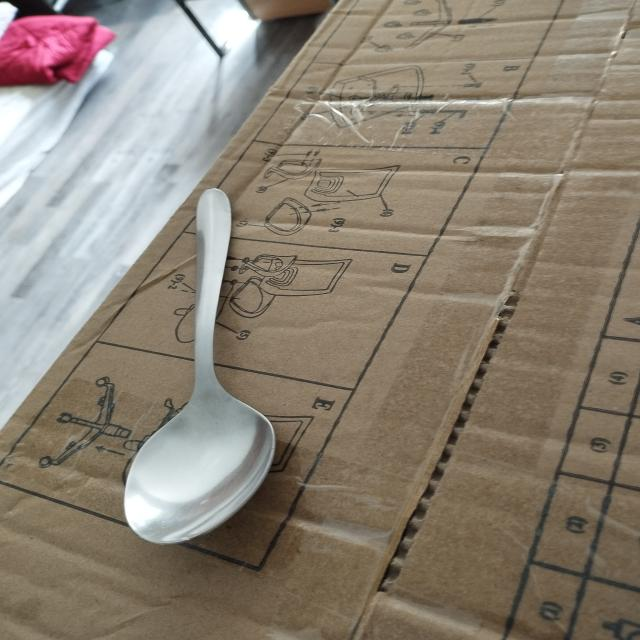Spoon: (108, 182, 314, 552)
